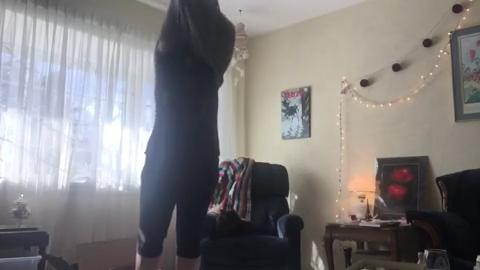blanket: (204, 156, 253, 222)
light: (334, 1, 474, 223), (347, 174, 378, 218)
person: (135, 1, 236, 270)
picture: (375, 156, 425, 218), (448, 26, 479, 122), (280, 87, 313, 139)
sofa_couch: (201, 162, 304, 269), (407, 168, 479, 269)
table_desk: (323, 222, 413, 269), (1, 224, 49, 269)
